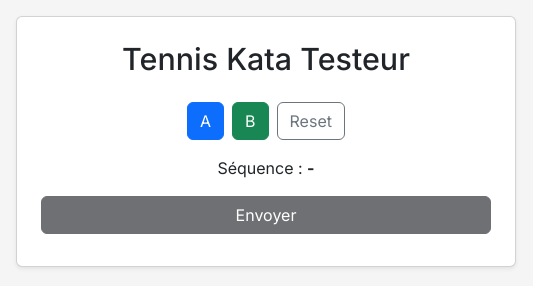
Test: TennisGameComponent › active le bouton Envoyer si la séquence n'est pas vide
Click the button "A". click: (206, 120)
box: [187,102,224,140]
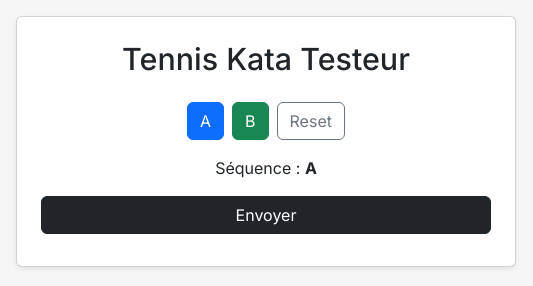
Expected: the button "Envoyer" is enabled, [41,196,491,234]
